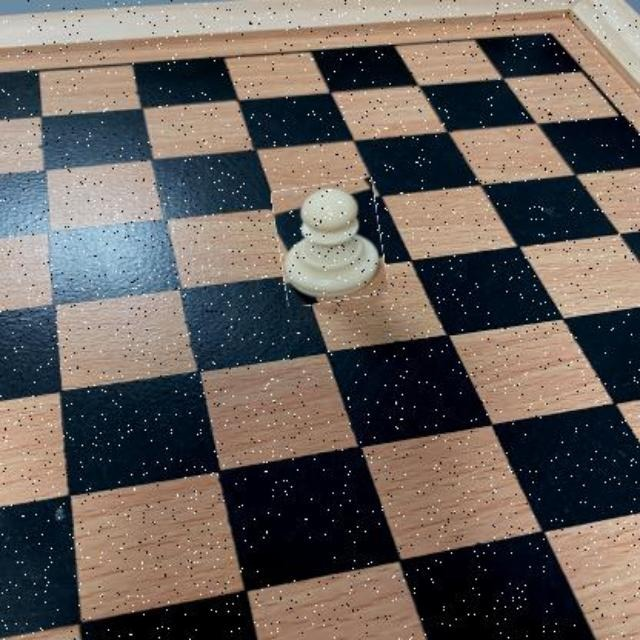white-pawn: (276, 181, 386, 304)
